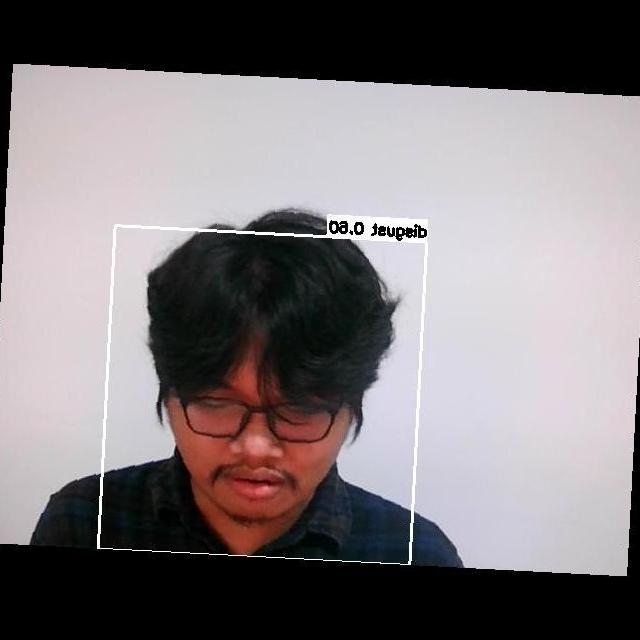Fear: (159, 348, 349, 524)
